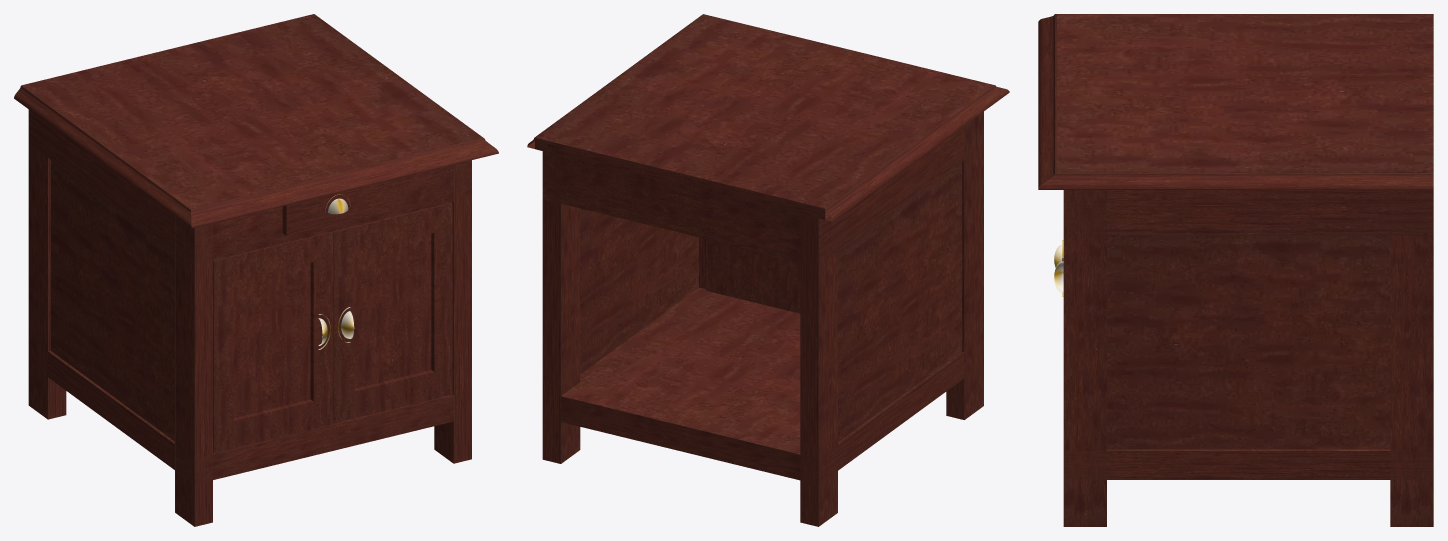
The model's file is sh-contrib-hall-table.glb.
3 renders of one model, left to right at view 1: azimuth 30°, elevation 25°; view 2: azimuth 150°, elevation 25°; view 3: azimuth 270°, elevation 25°, orthographic. The views are drawn at different scales.
Parts seen in each view (by area): view 1: HallTable_1, HallTable_2; view 2: HallTable_1; view 3: HallTable_1.
Boxes of the visible parts, <box> form: HallTable_1: <box>14,14,498,526</box>; HallTable_2: <box>318,194,354,349</box>; HallTable_1: <box>527,14,1009,526</box>; HallTable_1: <box>1038,14,1433,526</box>.
Size of the model in its own units: 1 by 1 by 1.
2 materials, 2 textured.
